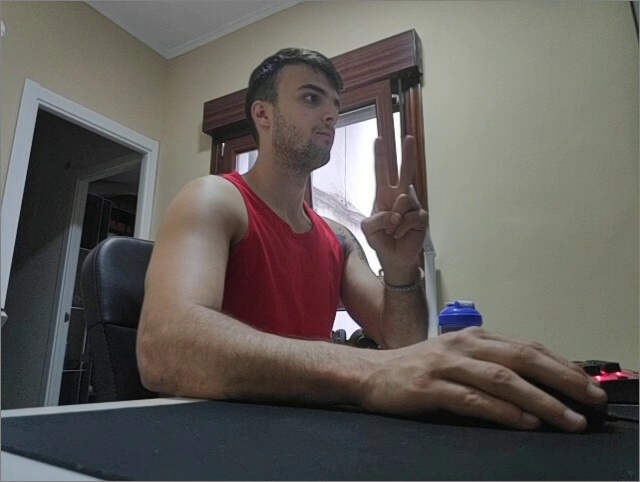Peace: (357, 133, 431, 271)
